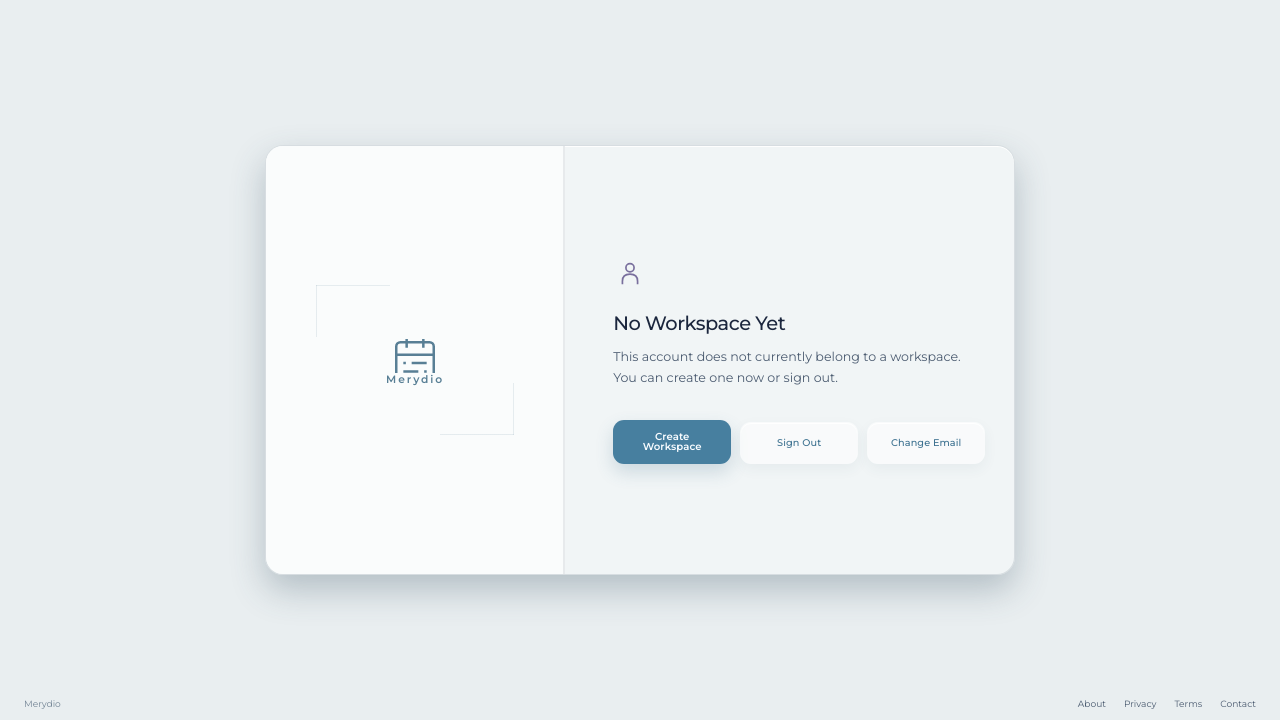
Scenario: email account authentication › shows onboarding when a signed-in account has no membership
Expected: the heading "No Workspace Yet" is shown, [613, 311, 785, 335]
Expected: the button "Sign Out" is shown, [740, 422, 858, 464]
Click the button "Create Workspace" at (672, 442), box [613, 420, 731, 464]
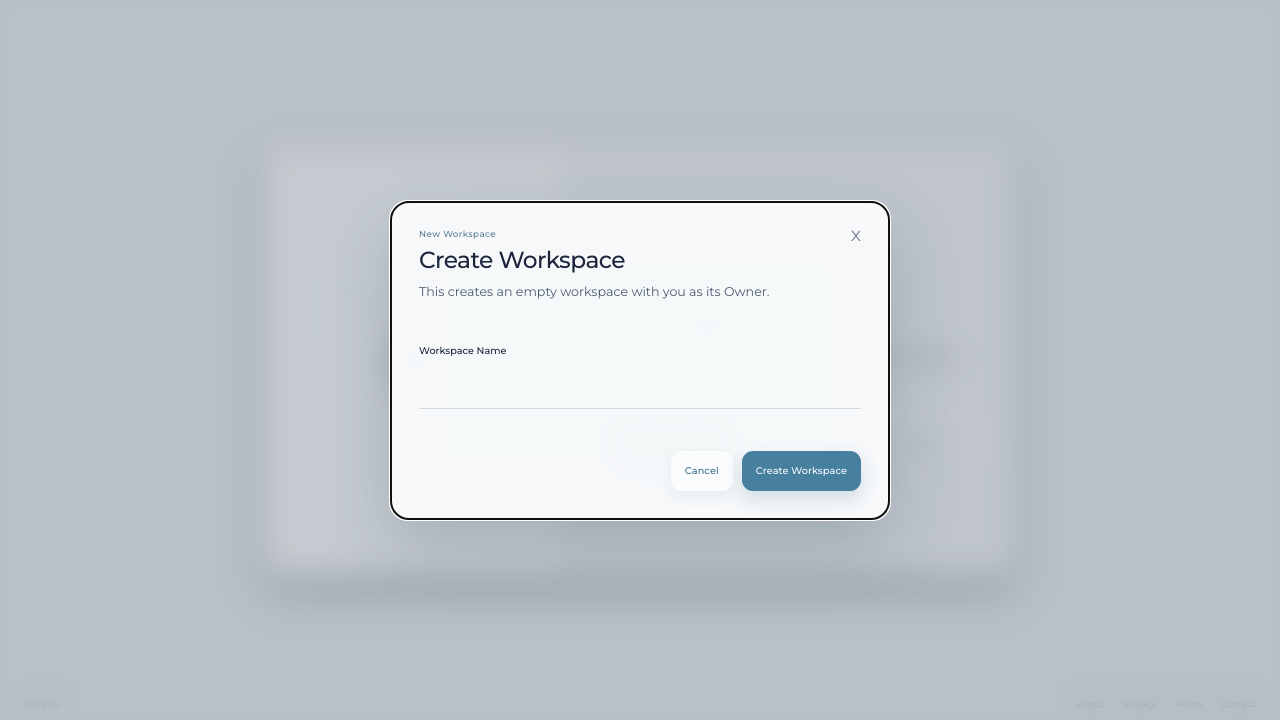
Click the button "Create Workspace" at (801, 470), box [742, 450, 861, 490]
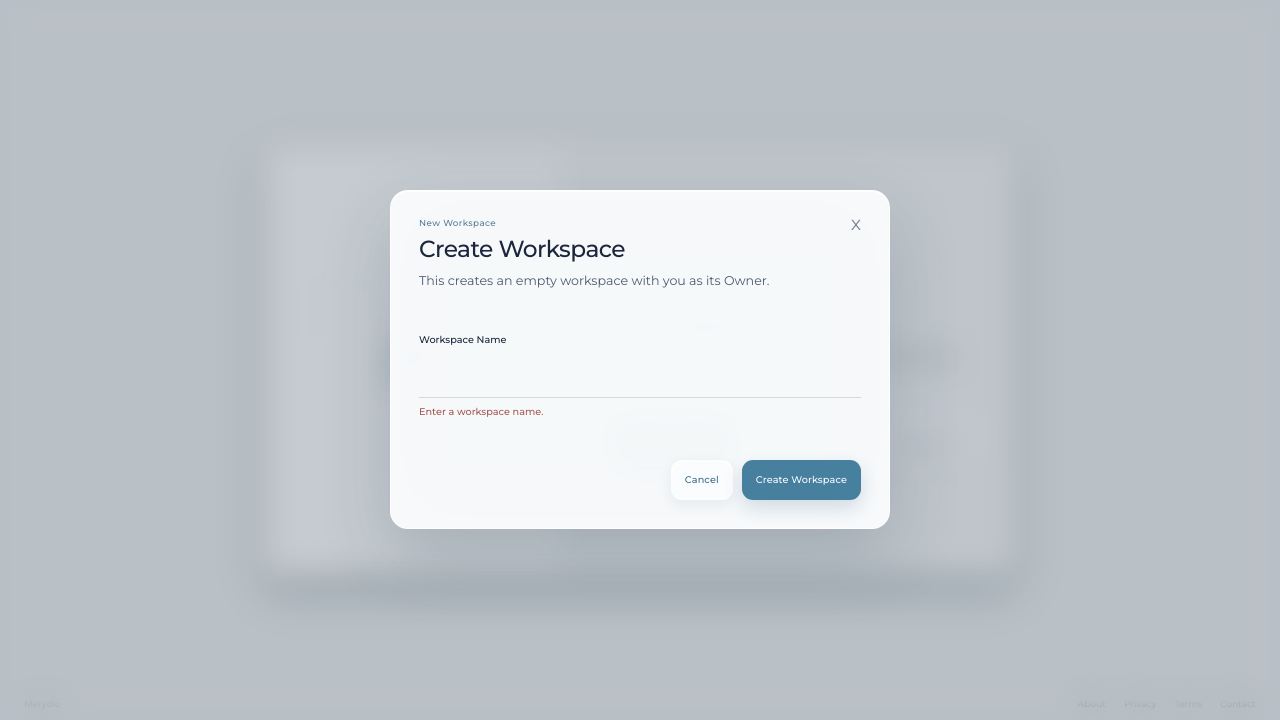
Result: the message reads "Enter a workspace name." at [419, 406, 543, 417]
Type "Radiology" into the field labelled "Workspace Name" at (640, 376), box [419, 354, 861, 398]
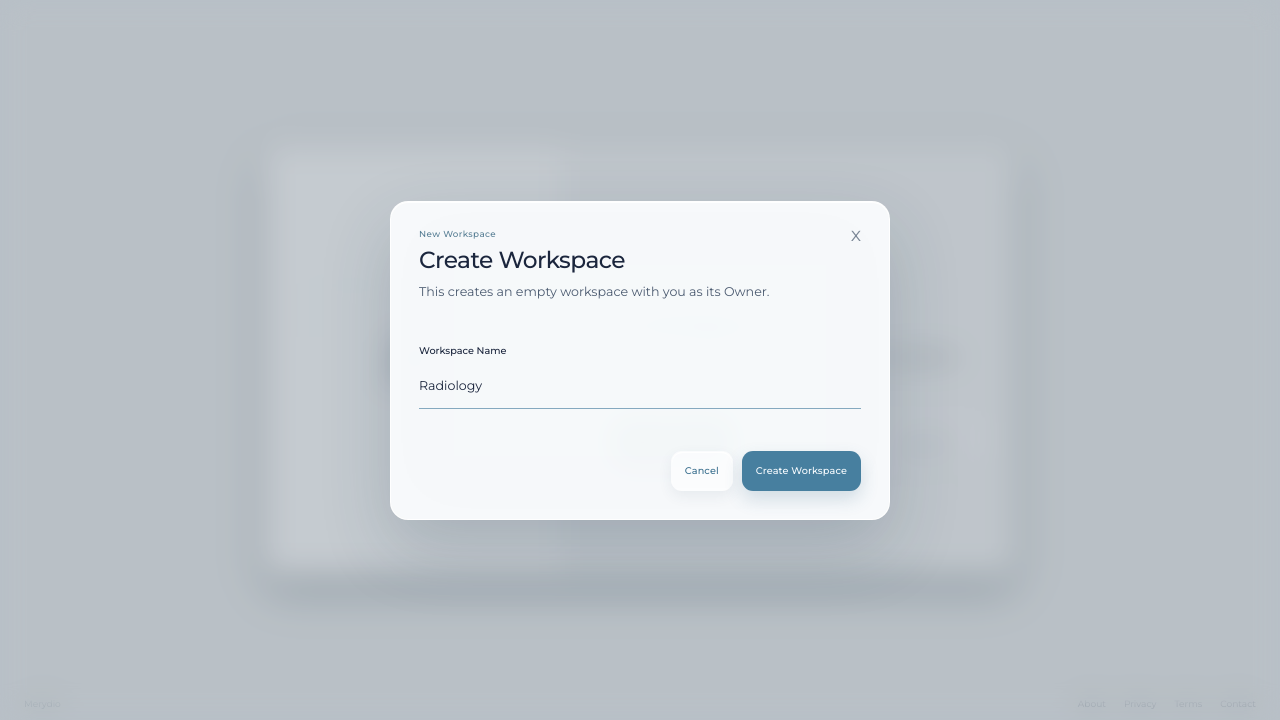
Click the button "Create Workspace" at (801, 470), box [742, 450, 861, 490]
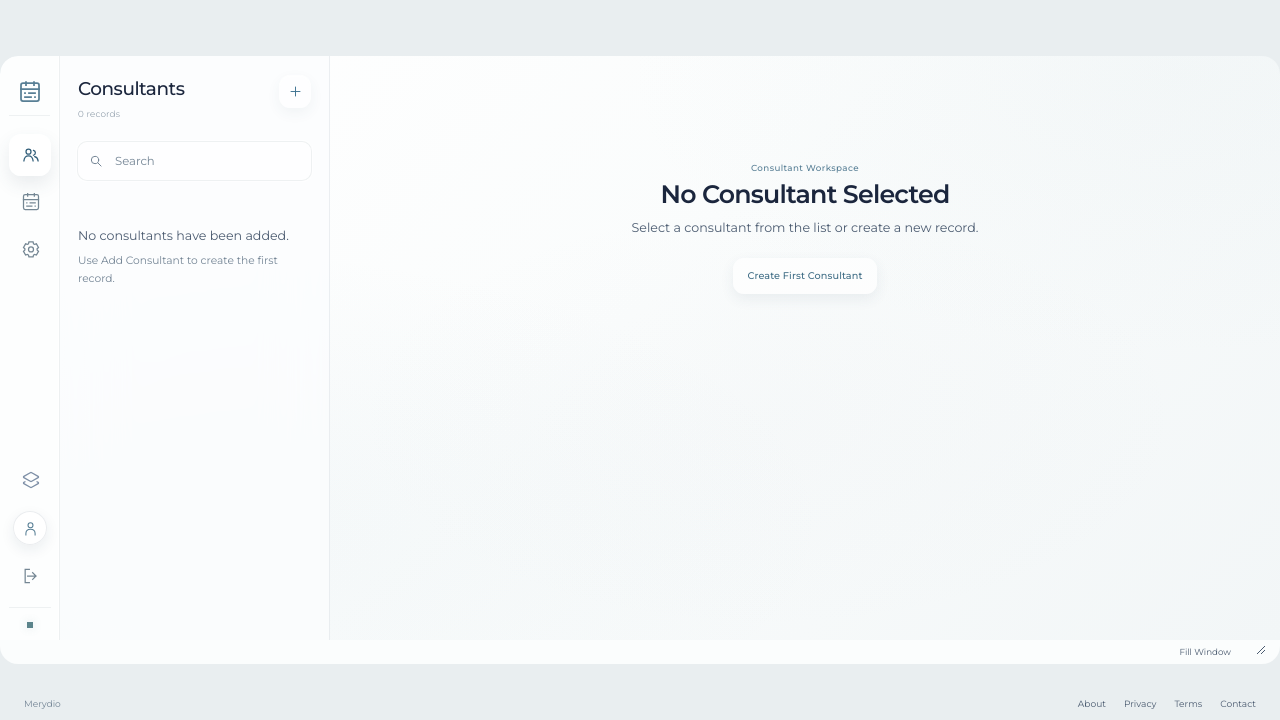
Result: the heading "Consultants" is shown at [78, 80, 184, 98]
